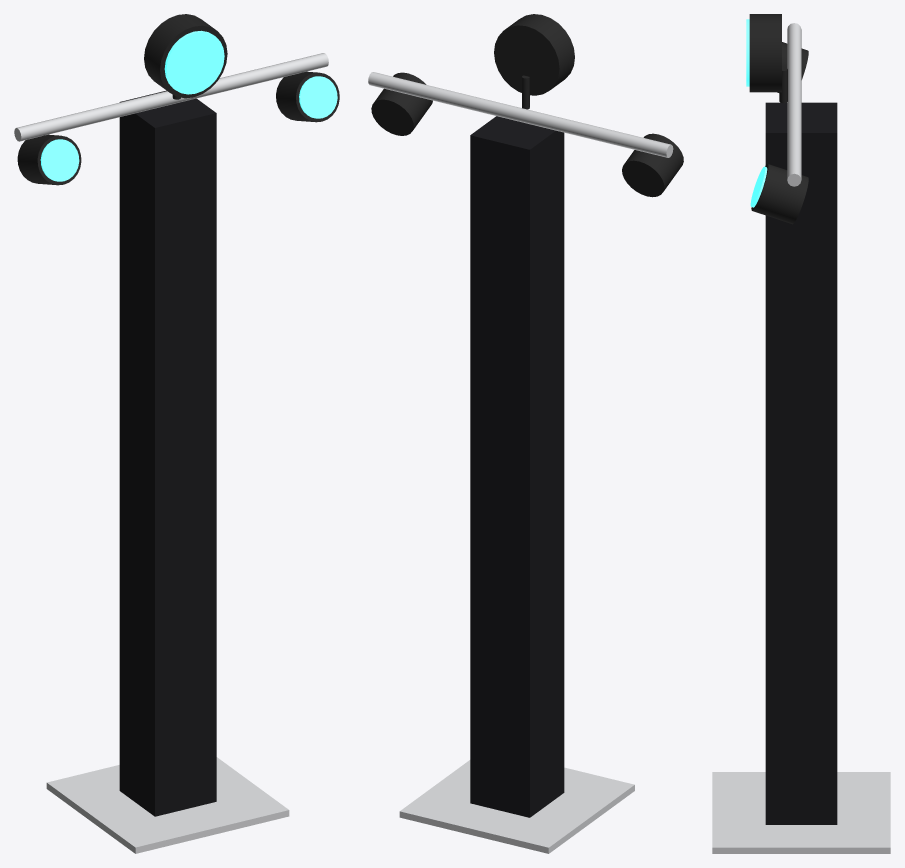
File: light-bar.glb
The picture shows the model from 3 angles, left to right: view 1: azimuth 30°, elevation 25°; view 2: azimuth 150°, elevation 25°; view 3: azimuth 270°, elevation 25°; orthographic projection. The views are drawn at different scales.
Visible parts, largest first — view 1: TBar_Izq_columna, TBar_Izq_base, TBar_Izq_barra, TBar_Izq_Par_centro_leds, TBar_Izq_Par_centro_cuerpo, TBar_Izq_ParCan_cuerpo, TBar_Izq_ParCan_cuerpo.001, TBar_Izq_ParCan_lente.001, TBar_Izq_ParCan_lente; view 2: TBar_Izq_columna, TBar_Izq_base, TBar_Izq_Par_centro_cuerpo, TBar_Izq_barra, TBar_Izq_ParCan_cuerpo, TBar_Izq_ParCan_cuerpo.001; view 3: TBar_Izq_columna, TBar_Izq_base, TBar_Izq_Par_centro_cuerpo, TBar_Izq_barra, TBar_Izq_ParCan_cuerpo.001.
Part boxes in pixels (box(x1,y1,x2,y2)): TBar_Izq_columna: box(119, 90, 216, 816); TBar_Izq_base: box(46, 757, 289, 853); TBar_Izq_barra: box(14, 53, 328, 141); TBar_Izq_Par_centro_leds: box(164, 30, 224, 94); TBar_Izq_Par_centro_cuerpo: box(144, 14, 227, 98); TBar_Izq_ParCan_cuerpo: box(17, 134, 81, 185); TBar_Izq_ParCan_cuerpo.001: box(276, 71, 339, 122); TBar_Izq_ParCan_lente.001: box(299, 76, 337, 118); TBar_Izq_ParCan_lente: box(40, 139, 79, 181); TBar_Izq_columna: box(470, 116, 564, 817); TBar_Izq_base: box(399, 760, 634, 853); TBar_Izq_Par_centro_cuerpo: box(494, 14, 574, 95); TBar_Izq_barra: box(368, 72, 673, 157); TBar_Izq_ParCan_cuerpo: box(622, 133, 683, 197); TBar_Izq_ParCan_cuerpo.001: box(371, 72, 432, 135); TBar_Izq_columna: box(765, 102, 837, 824); TBar_Izq_base: box(712, 772, 890, 853); TBar_Izq_Par_centro_cuerpo: box(749, 14, 781, 92); TBar_Izq_barra: box(787, 23, 801, 186); TBar_Izq_ParCan_cuerpo.001: box(751, 164, 808, 224).
Bounding box in the file's own units: 1 × 2.47 × 0.5.
